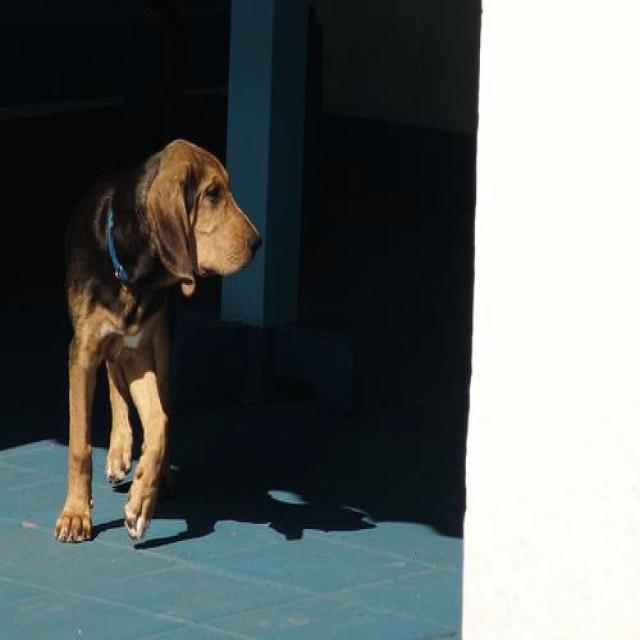bloodhound: (52, 135, 264, 548)
